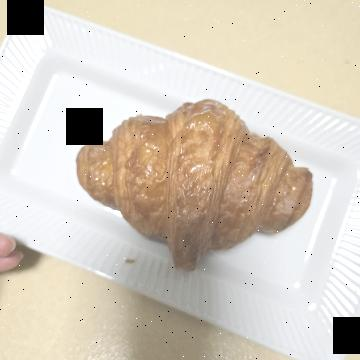croissant: (84, 37, 283, 292)
